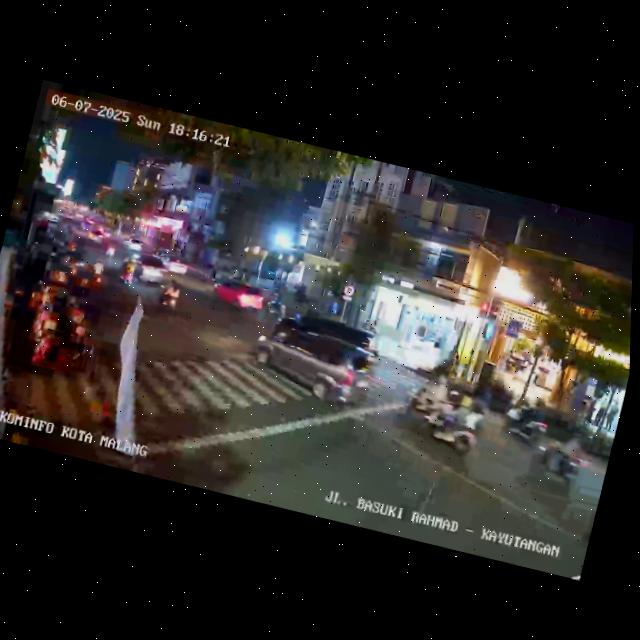car: (247, 313, 382, 416), (207, 273, 268, 319), (125, 251, 171, 289), (154, 251, 191, 276), (86, 225, 111, 246)
motorcycle: (417, 389, 496, 461), (528, 426, 595, 489), (398, 366, 457, 420), (497, 391, 552, 447), (151, 274, 184, 315), (81, 256, 108, 293), (261, 288, 289, 323), (116, 257, 139, 290)
person: (602, 400, 619, 432), (592, 395, 607, 429), (583, 399, 596, 425)
